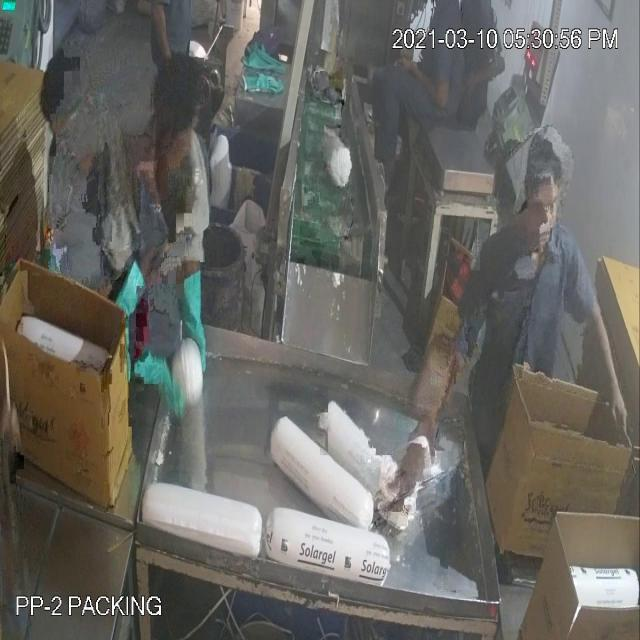No_Gloves: (37, 76, 608, 370)
